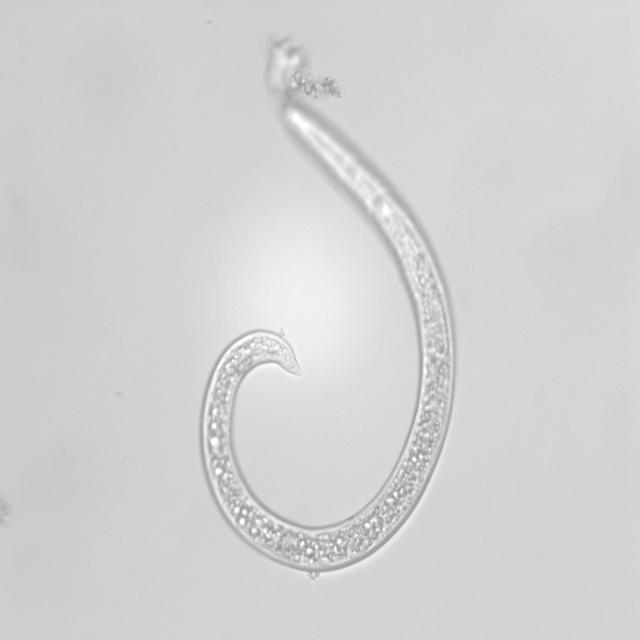Helicotylenchus: (202, 94, 470, 593)
